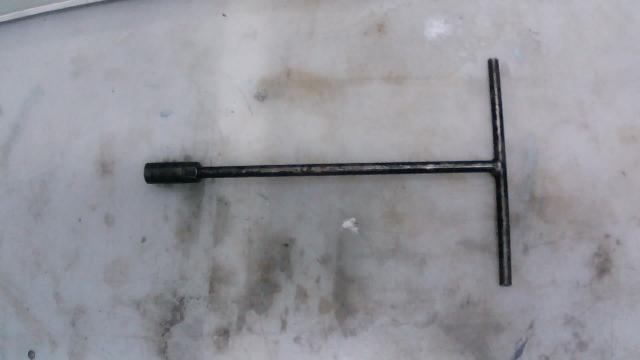kunci_t: (109, 34, 567, 347)
